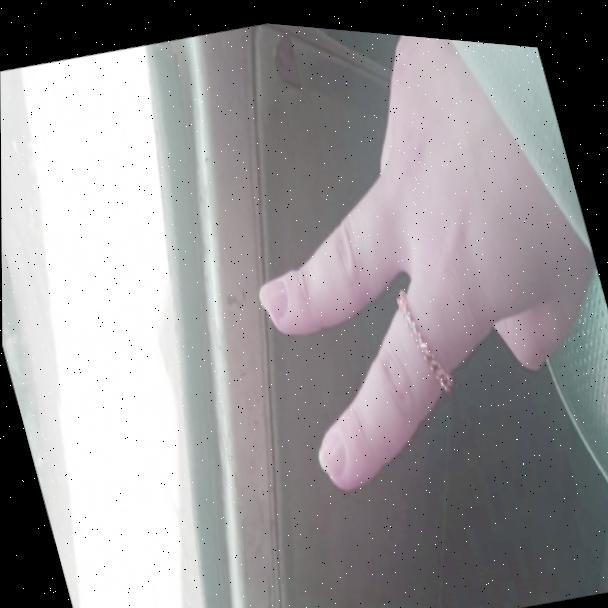two: (209, 34, 608, 522)
